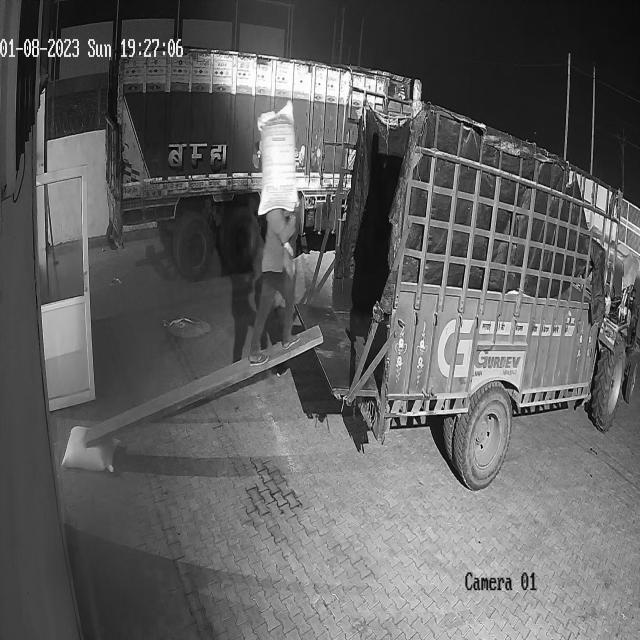sack: (258, 100, 298, 215), (62, 424, 118, 471)
